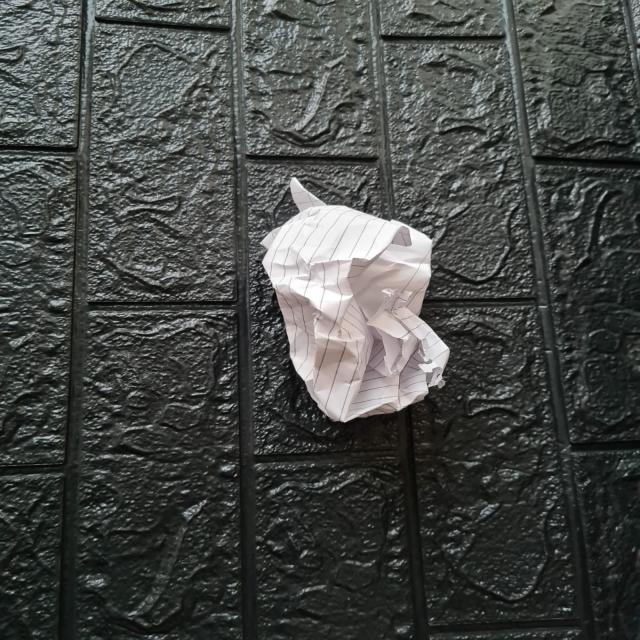Paper: (261, 176, 451, 428)
